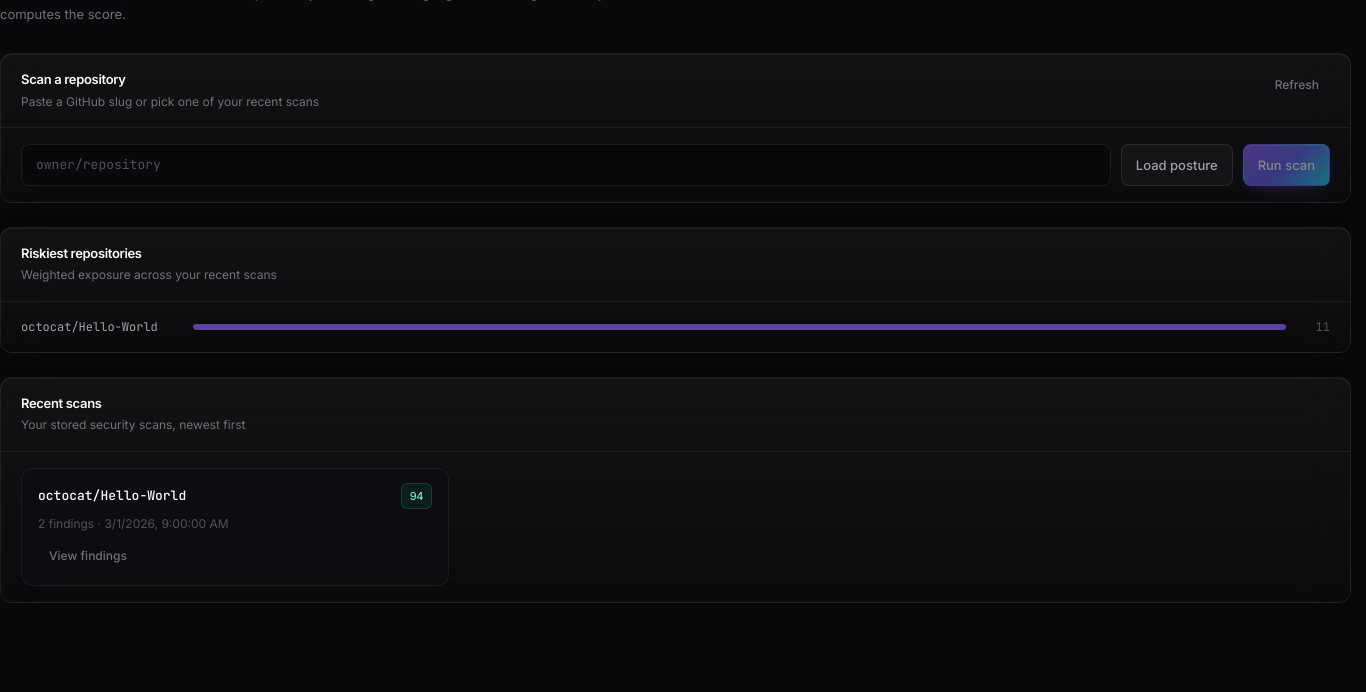
SecurityPage › running a scan › posts the chosen repository and renders the new result
In the field labelled "repository": [566, 165] box 21,144 -> 1111,186, type "octocat/Hello-World"
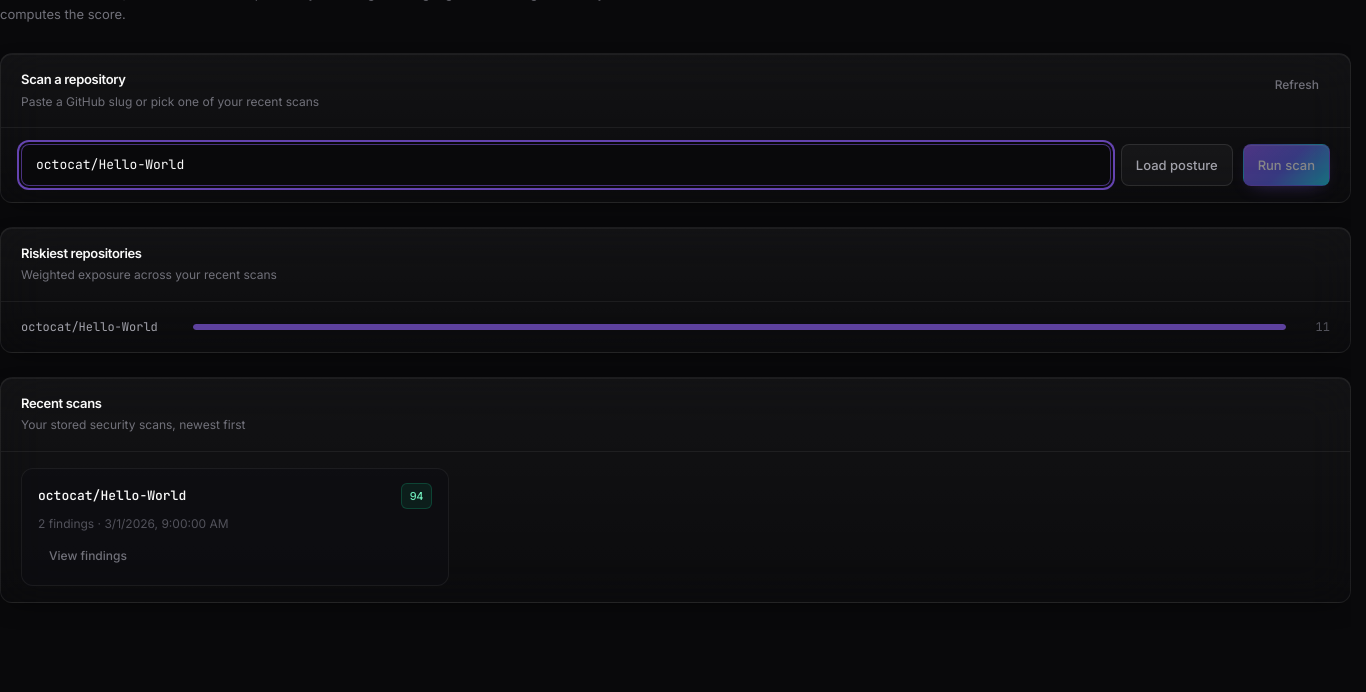
Click the button "Load posture": [1177, 165] box 1121,144 -> 1233,186
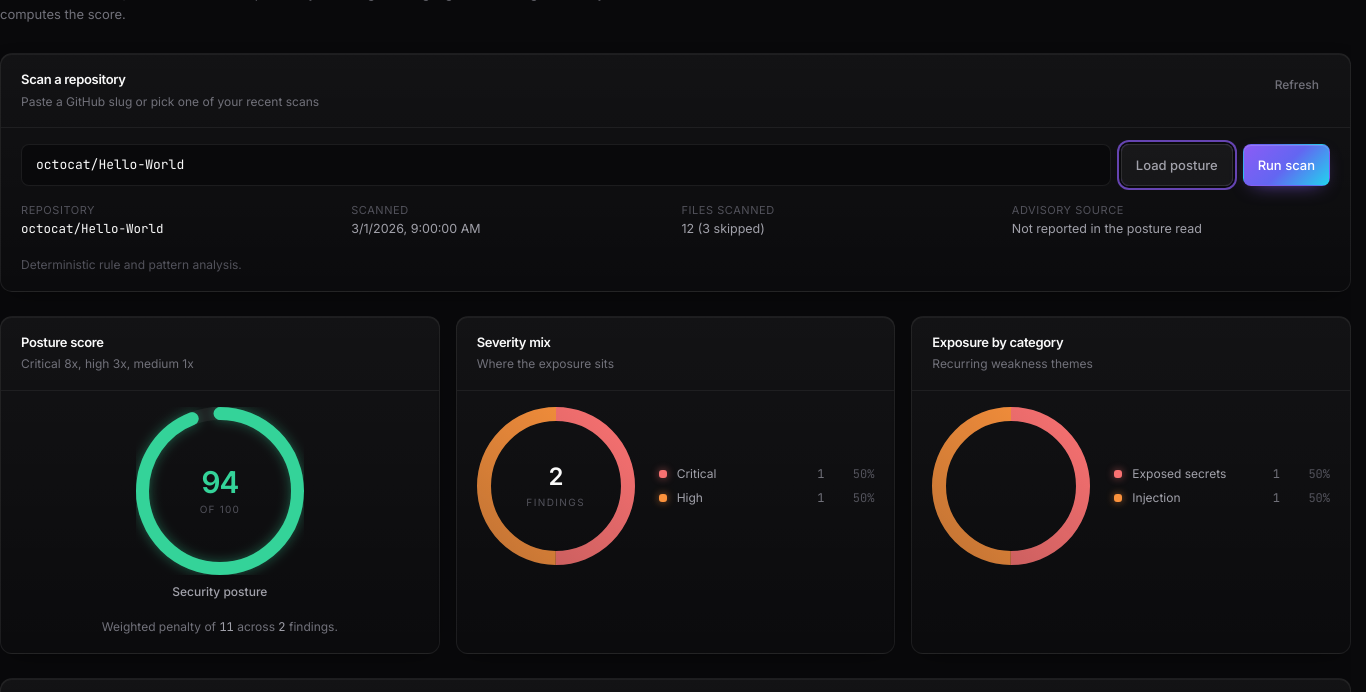
Click the button "Run scan": [1286, 165] box 1243,144 -> 1330,186
(page scrolled)
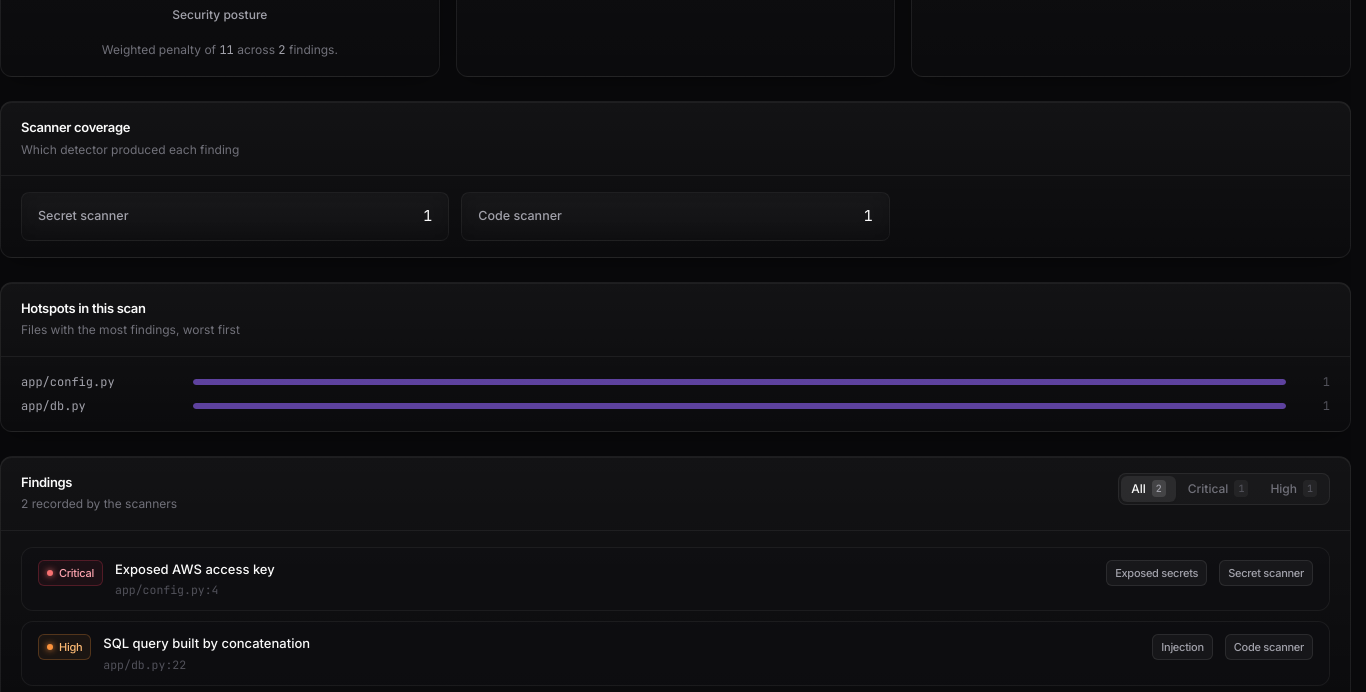
expect the heading "Hotspots in this scan" is shown: met, box 21,300 -> 146,316
